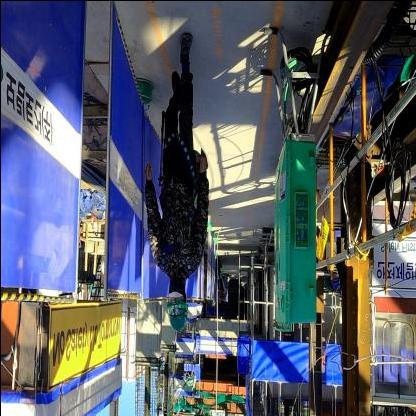Helmet: (162, 295, 192, 331)
safety-shoe: (179, 24, 195, 68)
